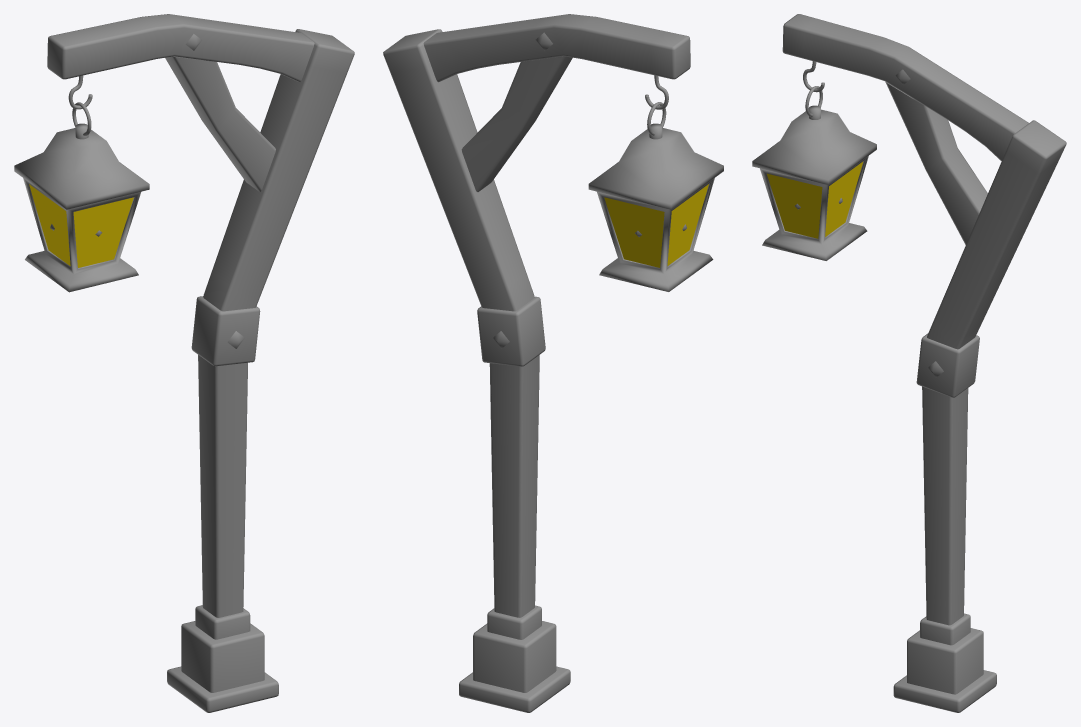
The model's file is LAMP_LP.fbx.
3 renders of one model, left to right at view 1: azimuth 30°, elevation 25°; view 2: azimuth 150°, elevation 25°; view 3: azimuth 330°, elevation 25°, orthographic. The views are drawn at different scales.
Visible parts, largest first — view 1: METAL_02_LP; view 2: METAL_02_LP; view 3: METAL_02_LP.
Boxes of the visible parts, <box> form: METAL_02_LP: <box>14,14,354,712</box>; METAL_02_LP: <box>383,14,723,712</box>; METAL_02_LP: <box>752,14,1066,712</box>.
Size of the model in its own units: 168 by 365 by 50.49.
